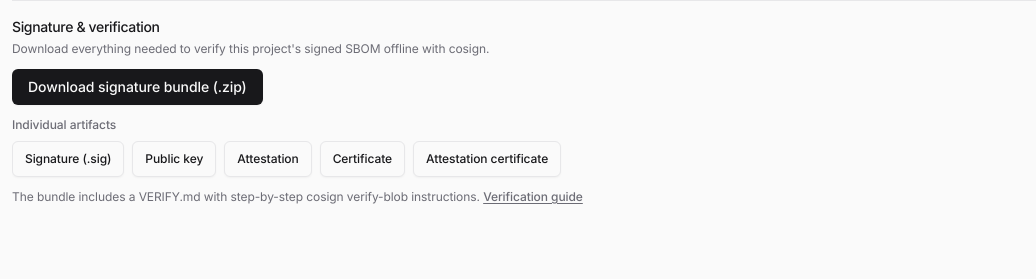
Test: SbomSignatureSection › flips to the calm 'unsigned' state when the bundle 404s (no signature)
The image size is (1036, 279).
Click the button with test id "sbom-signature-download-bundle": [137, 87] box top-left (12, 69), bottom-right (263, 105)
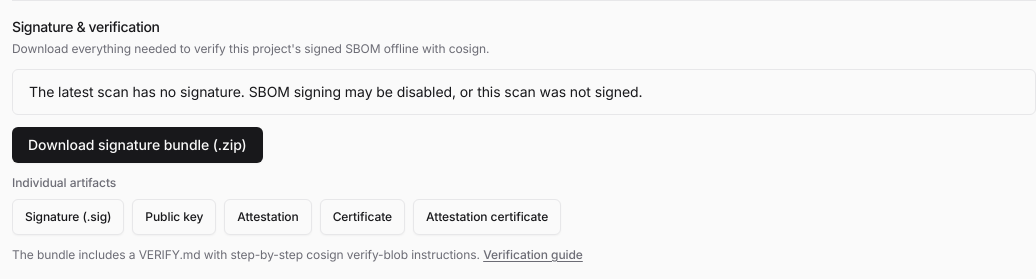
Now the message with test id "sbom-signature-unsigned" is shown, box top-left (12, 69), bottom-right (1035, 115)
